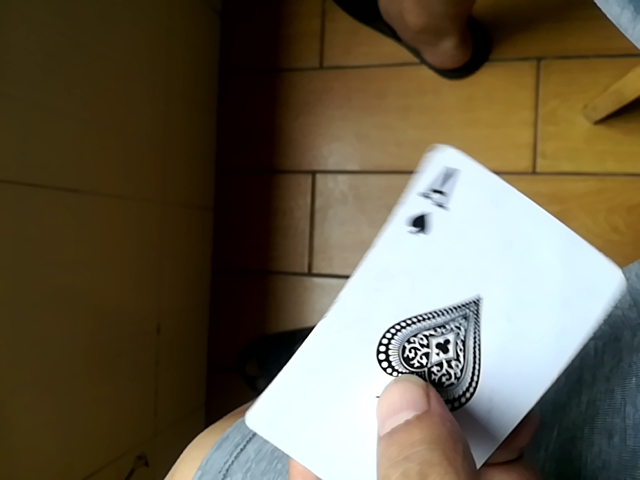ht a: (232, 140, 627, 480)
